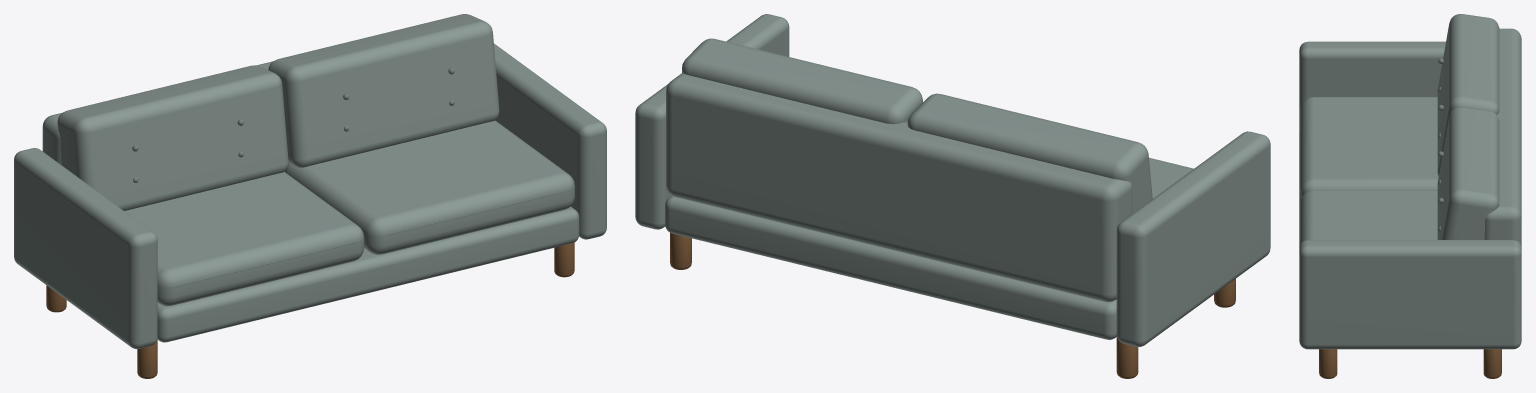
Rendered from morabo.glb.
3 views of the same model, side by side, from view 1: azimuth 30°, elevation 25°; view 2: azimuth 150°, elevation 25°; view 3: azimuth 270°, elevation 25° (orthographic). The views are drawn at different scales.
Parts seen in each view (by area): view 1: Back cushion 2, Back cushion 1, Seat cushion 2, Seat cushion 1, Arm, Upholstered base, Arm.001, Back structure, Wood foot, Wood foot.002; view 2: Back structure, Arm, Upholstered base, Back cushion 1, Back cushion 2, Arm.001, Seat cushion 1, Wood foot.001, Wood foot.003; view 3: Arm.001, Seat cushion 1, Arm, Back cushion 2, Seat cushion 2, Back cushion 1, Back structure, Wood foot.002, Wood foot.003, Upholstered base.
Boxes of the visible parts, box(x1,y1,x2,y2) form: Back cushion 2: box(268, 14, 499, 167); Back cushion 1: box(57, 65, 288, 210); Seat cushion 2: box(285, 120, 574, 254); Seat cushion 1: box(124, 172, 364, 306); Arm: box(14, 148, 157, 349); Upholstered base: box(157, 206, 579, 342); Arm.001: box(494, 43, 606, 239); Back structure: box(42, 61, 284, 171); Wood foot: box(137, 340, 157, 378); Wood foot.002: box(554, 242, 574, 277); Back structure: box(666, 73, 1132, 302); Arm: box(1116, 131, 1270, 346); Upholstered base: box(665, 195, 1116, 339); Back cushion 1: box(907, 93, 1152, 213); Back cushion 2: box(682, 38, 922, 124); Arm.001: box(635, 14, 789, 229); Seat cushion 1: box(1149, 157, 1193, 198); Wood foot.001: box(1116, 337, 1138, 378); Wood foot.003: box(670, 233, 691, 269); Arm.001: box(1299, 240, 1521, 349); Seat cushion 1: box(1300, 97, 1438, 200); Arm: box(1299, 41, 1445, 132); Back cushion 2: box(1437, 107, 1499, 239); Seat cushion 2: box(1300, 190, 1437, 243); Back cushion 1: box(1437, 14, 1499, 175); Back structure: box(1484, 28, 1521, 246); Wood foot.002: box(1319, 349, 1337, 378); Wood foot.003: box(1483, 349, 1501, 378); Upholstered base: box(1299, 131, 1300, 246).
Size of the model in its own units: 2.06 by 0.8315 by 0.92.
